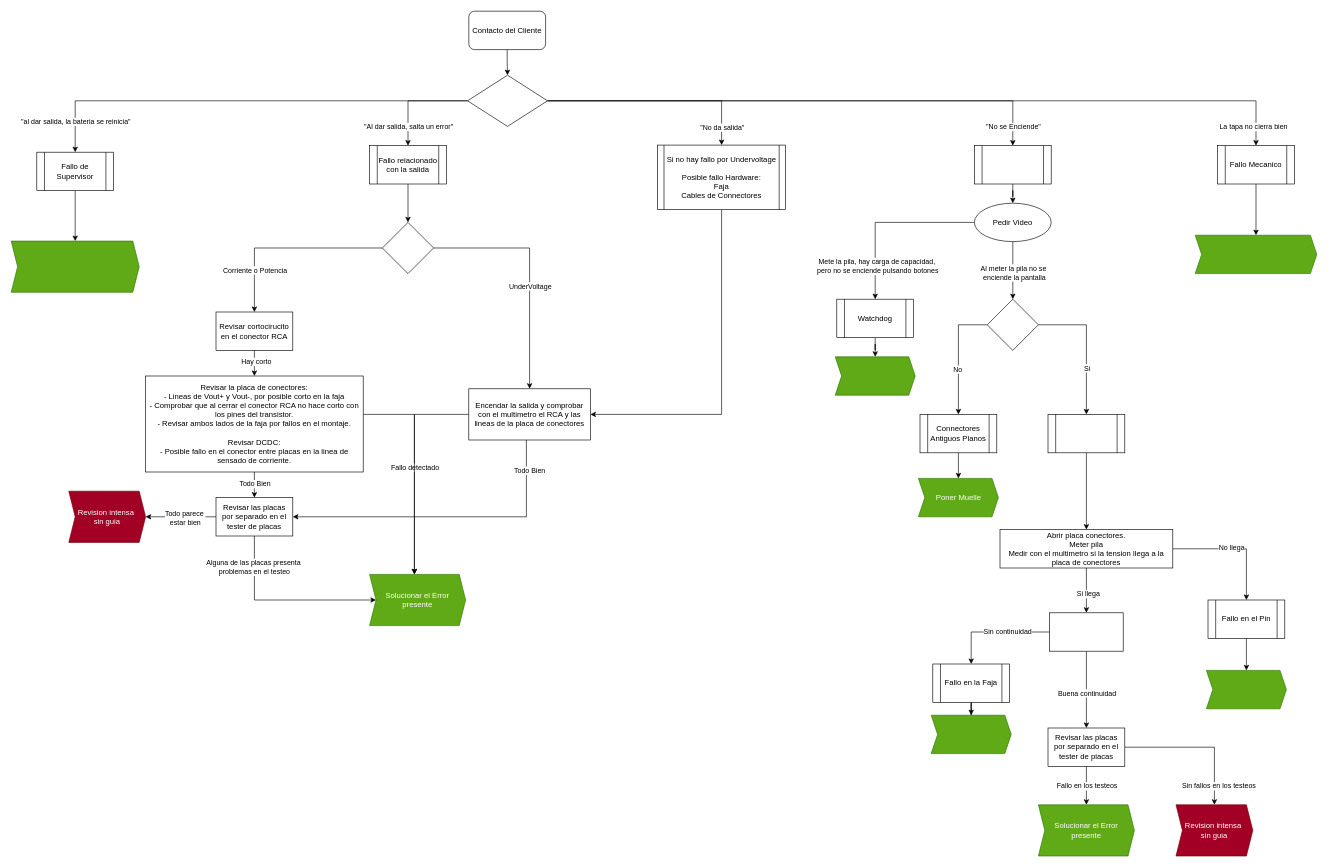
The diagram is 1328 pixels wide and 867 high, and some of its shapes have lost their labels. The shapes that lost their labels are listed below. From the top down, each one's box as (x1, y1, x2, y2) in pixels, then its label:
(467, 75, 548, 126): Problemas
(974, 145, 1051, 184): Posibles: Conectores, Fallo Software, Watchdog
(11, 240, 139, 292): Quitar supervisor de la placa CPU
(1195, 235, 1317, 274): Cambio de la tapa por posible golpe o fallo de fabrica
(987, 299, 1038, 350): Tiene Muelle?
(835, 356, 915, 395): Reprogramación
(1047, 414, 1125, 453): Posible fallo en el Pin del cobre o fallo en la faja.
(1049, 612, 1123, 651): Comprobar continuidad en la Faja
(1206, 670, 1286, 709): Cambiar Barril
(931, 715, 1011, 754): Cambiar Faja
